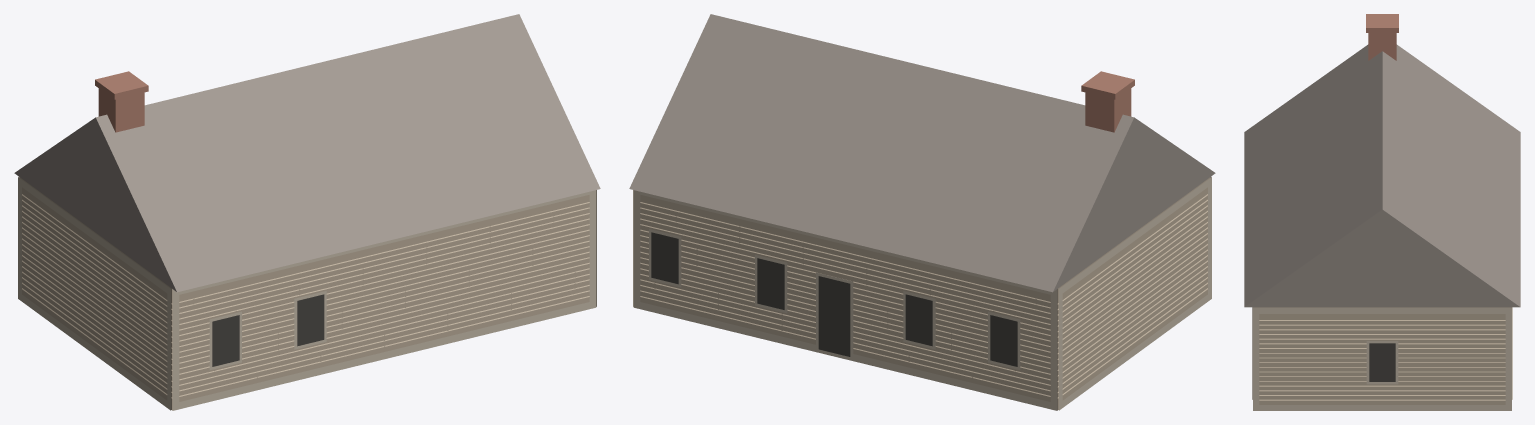
File: first_presbyterian_church__frame_1834.glb
The picture shows the model from 3 angles, left to right: view 1: azimuth 30°, elevation 25°; view 2: azimuth 150°, elevation 25°; view 3: azimuth 270°, elevation 25°; orthographic projection. The views are drawn at different scales.
Parts seen in each view (by area): view 1: first_presbyterian_church__frame_1834; view 2: first_presbyterian_church__frame_1834; view 3: first_presbyterian_church__frame_1834.
Boxes of the visible parts, left/top/right/bottom form: first_presbyterian_church__frame_1834: left=14, top=14, right=600, bottom=410; first_presbyterian_church__frame_1834: left=629, top=14, right=1215, bottom=410; first_presbyterian_church__frame_1834: left=1244, top=14, right=1520, bottom=410.
Size of the model in its own units: 12.27 by 7.3 by 8.12.
